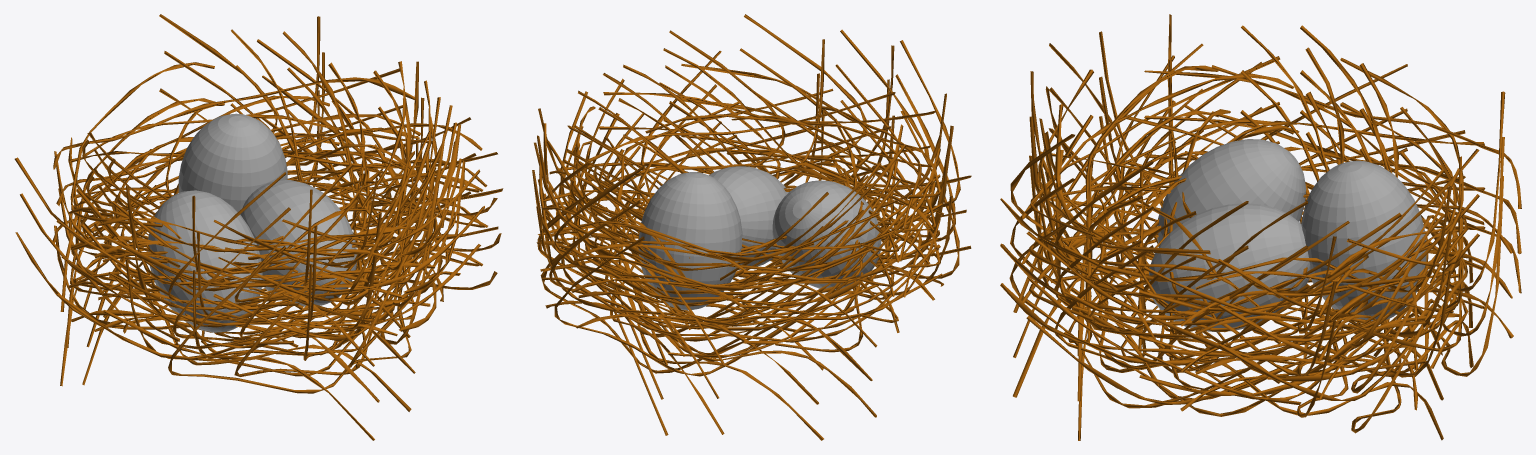
The model's file is nid.obj.
3 renders of one model, left to right at view 1: azimuth 30°, elevation 25°; view 2: azimuth 150°, elevation 25°; view 3: azimuth 270°, elevation 25°, orthographic. The views are drawn at different scales.
Visible parts, largest first — view 1: NurbsPath.000_CUNurbsPath.010, egg_Sphere.002; view 2: NurbsPath.000_CUNurbsPath.010, egg_Sphere.002; view 3: NurbsPath.000_CUNurbsPath.010, egg_Sphere.002.
Part boxes in pixels (x1,y1,x2,y2): NurbsPath.000_CUNurbsPath.010: (14, 14, 503, 440); egg_Sphere.002: (148, 113, 357, 332); NurbsPath.000_CUNurbsPath.010: (532, 14, 971, 440); egg_Sphere.002: (638, 166, 881, 310); NurbsPath.000_CUNurbsPath.010: (1000, 14, 1521, 440); egg_Sphere.002: (1149, 139, 1426, 332).
Size of the model in its own units: 7.25 by 5.35 by 7.14.
